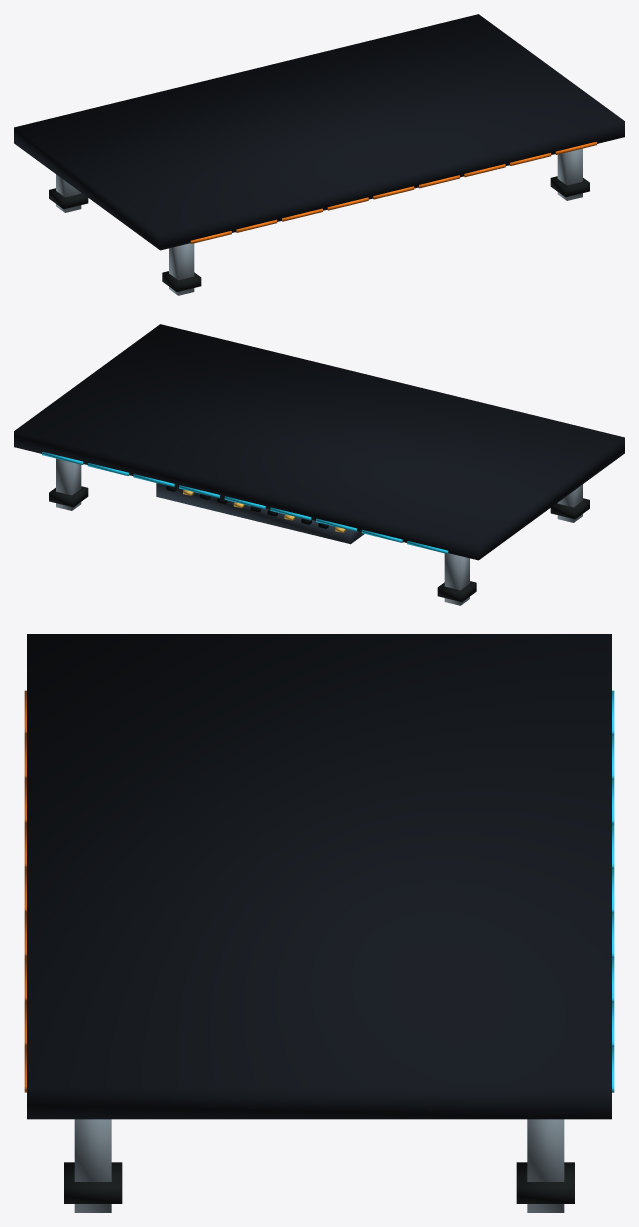
The model's file is 00_L94_AssemblyBenchFrame.fbx.
3 renders of one model, top to bottom at view 1: azimuth 30°, elevation 25°; view 2: azimuth 150°, elevation 25°; view 3: azimuth 270°, elevation 25°, orthographic. The views are drawn at different scales.
Visible parts, largest first — view 1: L94_AssemblyBenchFrame; view 2: L94_AssemblyBenchFrame; view 3: L94_AssemblyBenchFrame.
Boxes of the visible parts, bbox=[...] form: L94_AssemblyBenchFrame: bbox=[14, 14, 624, 295]; L94_AssemblyBenchFrame: bbox=[14, 324, 624, 605]; L94_AssemblyBenchFrame: bbox=[24, 634, 614, 1212].
Bounding box in the file's own units: 550 × 87.5 × 302.
